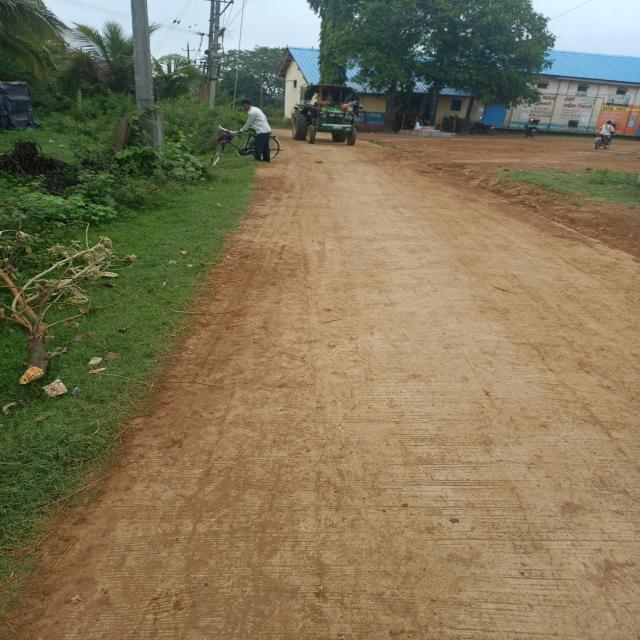tractor_front: (283, 79, 367, 149)
